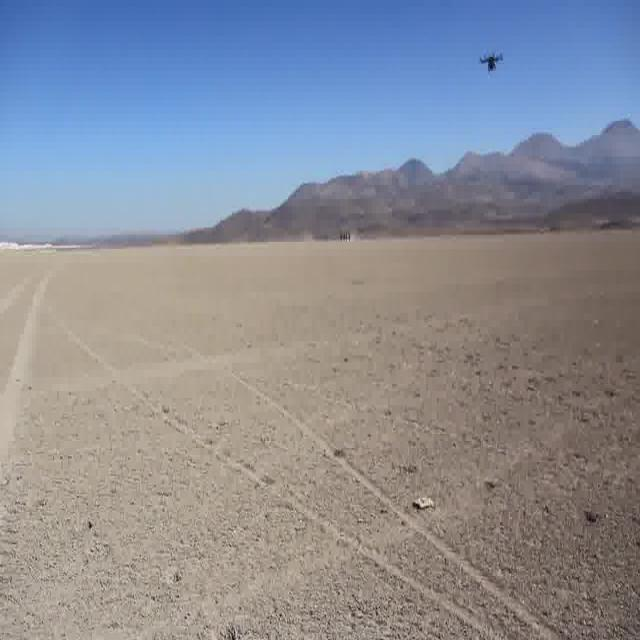drone: (476, 47, 504, 77)
